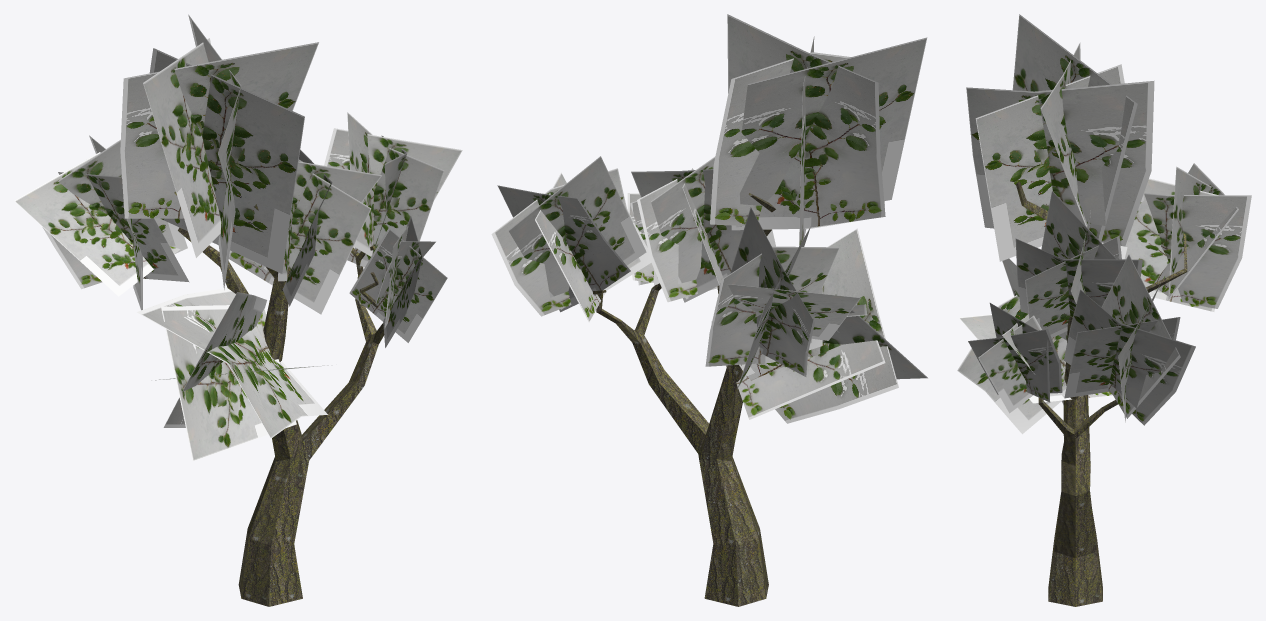
Rendered from palm_tree.glb.
3 renders of one model, left to right at view 1: azimuth 30°, elevation 25°; view 2: azimuth 150°, elevation 25°; view 3: azimuth 270°, elevation 25°, orthographic. The views are drawn at different scales.
Parts seen in each view (by area): view 1: Tree, Plane.005, Plane.004, Plane.030, Plane.031, Plane.007, Plane.027, Plane.009, Plane.013, Plane.017, Plane.025, Plane.024 (+11 smaller); view 2: Plane.004, Tree, Plane.007, Plane.028, Plane.019, Plane.026, Plane.006, Plane.024, Plane.033, Plane.016, Plane.011, Plane.018 (+8 smaller); view 3: Plane.006, Tree, Plane.005, Plane.026, Plane.018, Plane.007, Plane.010, Plane.019, Plane.017, Plane.025, Plane.009, Plane.030 (+11 smaller).
Boxes of the visible parts, x1,y1,x2,y2 form: Tree: [174, 191, 384, 606]; Plane.005: [149, 48, 304, 273]; Plane.004: [120, 42, 318, 218]; Plane.030: [137, 288, 327, 438]; Plane.031: [161, 305, 296, 461]; Plane.007: [143, 38, 221, 257]; Plane.027: [14, 152, 180, 296]; Plane.009: [228, 173, 371, 314]; Plane.013: [349, 228, 447, 342]; Plane.017: [347, 148, 444, 267]; Plane.025: [58, 172, 189, 282]; Plane.024: [42, 139, 187, 289]; Plane.004: [727, 14, 885, 230]; Tree: [593, 193, 775, 606]; Plane.007: [728, 37, 927, 227]; Plane.028: [711, 228, 898, 423]; Plane.019: [508, 156, 646, 309]; Plane.026: [705, 246, 839, 366]; Plane.006: [710, 52, 884, 229]; Plane.024: [730, 207, 814, 376]; Plane.033: [736, 340, 885, 419]; Plane.016: [497, 185, 630, 312]; Plane.011: [651, 156, 775, 299]; Plane.018: [491, 168, 651, 316]; Plane.006: [966, 80, 1154, 246]; Tree: [1016, 181, 1187, 606]; Plane.005: [975, 64, 1144, 261]; Plane.026: [1144, 193, 1251, 308]; Plane.018: [1063, 289, 1195, 425]; Plane.007: [1012, 14, 1137, 241]; Plane.010: [1015, 238, 1142, 317]; Plane.019: [1101, 254, 1180, 418]; Plane.017: [1064, 317, 1180, 398]; Plane.025: [1120, 178, 1218, 311]; Plane.009: [1025, 235, 1121, 337]; Plane.030: [957, 295, 1066, 434].
Bounding box in the file's own units: 15.42 × 20.7 × 10.83.
2 materials, 2 textured.
